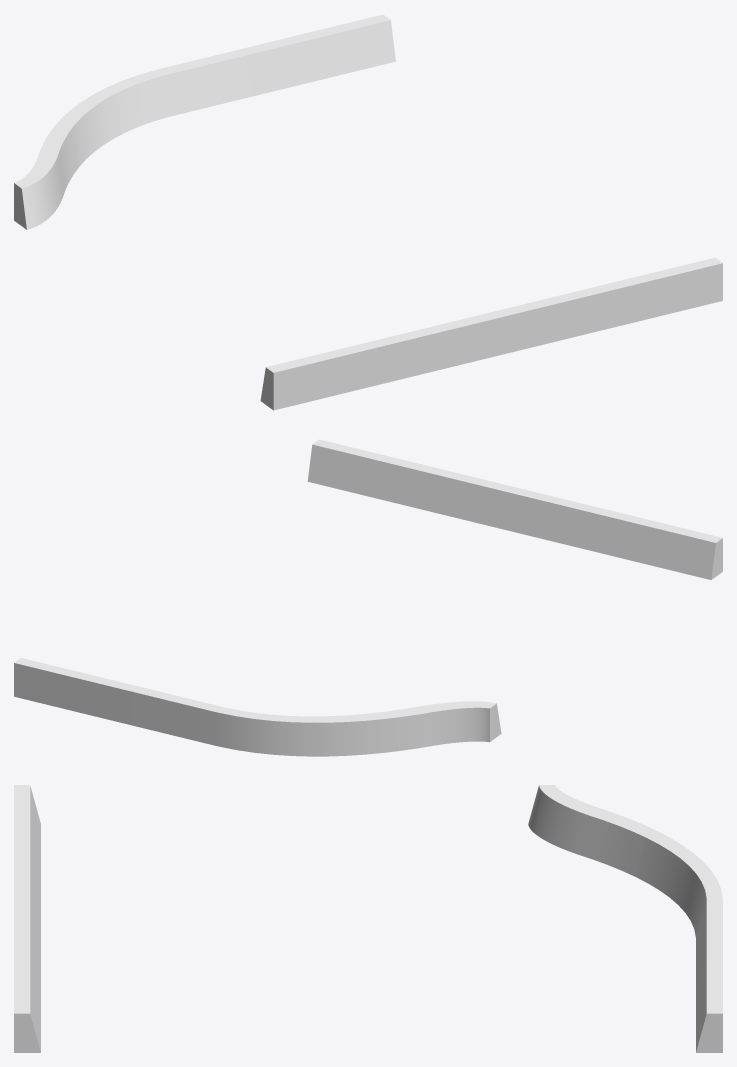
Rendered from road-side-exit-barrier.glb.
The picture shows the model from 3 angles, top to bottom: view 1: azimuth 30°, elevation 25°; view 2: azimuth 150°, elevation 25°; view 3: azimuth 270°, elevation 25°; orthographic projection. The views are drawn at different scales.
Visible parts, largest first — view 1: road-side-exit-barrier; view 2: road-side-exit-barrier; view 3: road-side-exit-barrier.
Part boxes in pixels (x1,y1,x2,y2): road-side-exit-barrier: (14,14,722,410); road-side-exit-barrier: (14,439,722,756); road-side-exit-barrier: (14,785,722,1052).
Bounding box in the file's own units: 1 × 0.08 × 1.31.
1 material, 1 textured.
